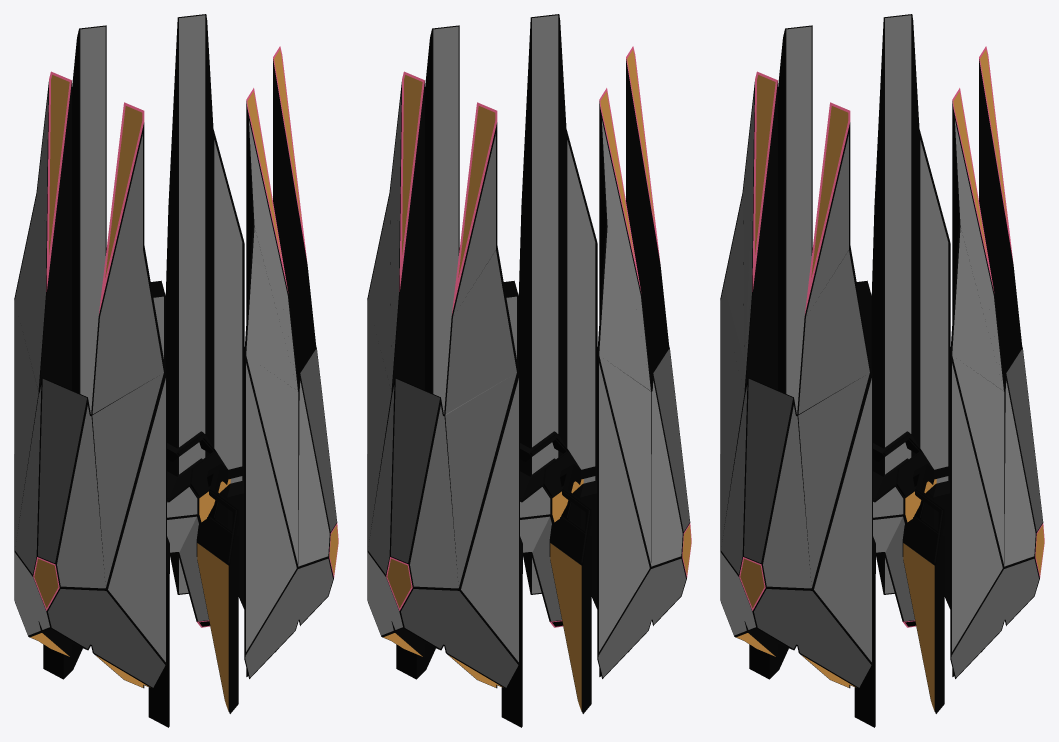
Rendered from 2x3_relic_01.glb.
3 views of the same model, side by side, from view 1: azimuth 30°, elevation 25°; view 2: azimuth 150°, elevation 25°; view 3: azimuth 270°, elevation 25° (orthographic).
Parts seen in each view (by area): view 1: Relic, emission_03; view 2: Relic, emission_03; view 3: Relic, emission_03.
Boxes of the visible parts, x1,y1,x2,y2 form: Relic: (14, 14, 338, 727); emission_03: (46, 46, 307, 315); Relic: (367, 14, 691, 727); emission_03: (399, 46, 660, 315); Relic: (720, 14, 1044, 727); emission_03: (752, 46, 1013, 315).
Size of what is drawn, in the model's own units: 33.78 by 70.01 by 33.79.
Materials: 2 (2 with a texture image).
